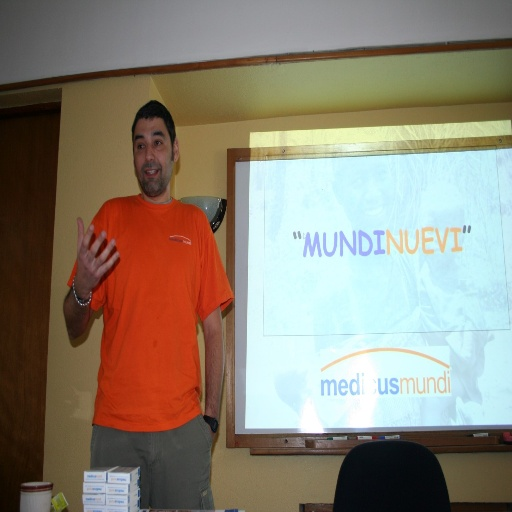hand: (69, 232, 112, 294)
